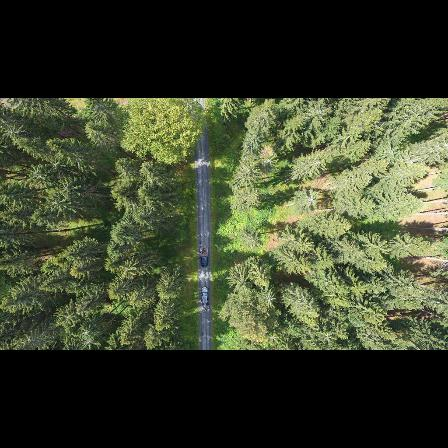Sick: (298, 187, 323, 212), (258, 287, 279, 313), (27, 165, 49, 187), (43, 156, 66, 175), (263, 329, 284, 346), (318, 329, 338, 346)
